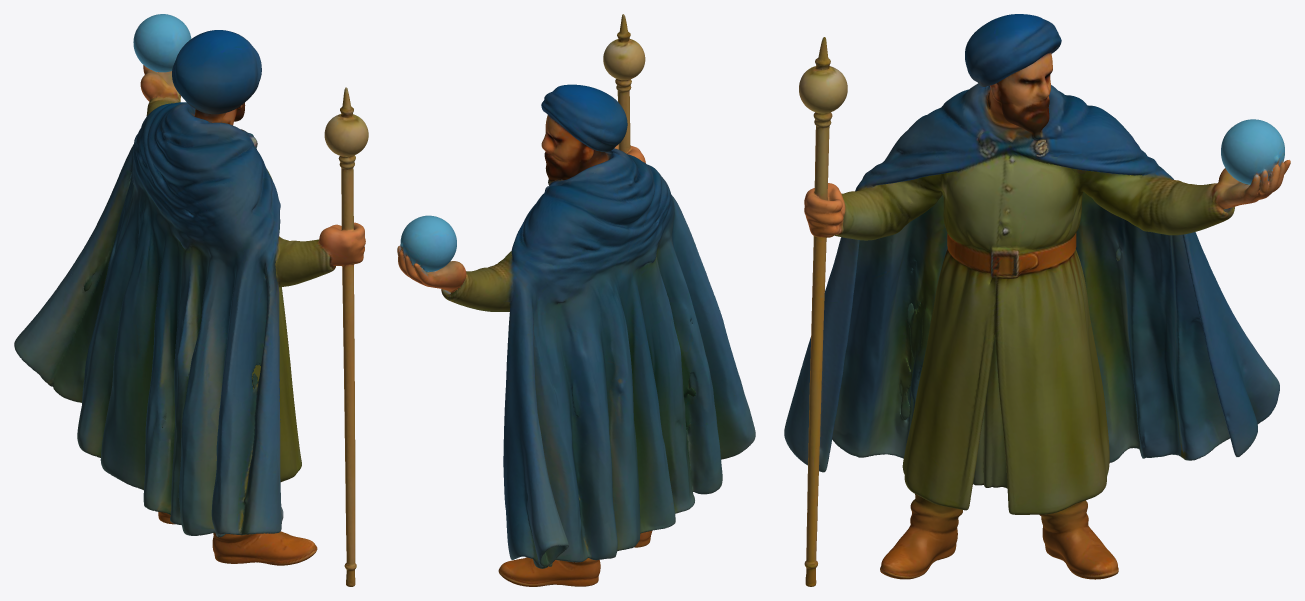
3 views of the same model, side by side, from view 1: azimuth 30°, elevation 25°; view 2: azimuth 150°, elevation 25°; view 3: azimuth 270°, elevation 25° (orthographic). The views are drawn at different scales.
Visible parts, largest first — view 1: tripo_node_4fb556c6-42da-4afb-b392-3214550b80b0; view 2: tripo_node_4fb556c6-42da-4afb-b392-3214550b80b0; view 3: tripo_node_4fb556c6-42da-4afb-b392-3214550b80b0.
Boxes of the visible parts, x1=… form: tripo_node_4fb556c6-42da-4afb-b392-3214550b80b0: x1=14, y1=14, x2=368, y2=586; tripo_node_4fb556c6-42da-4afb-b392-3214550b80b0: x1=397, y1=14, x2=755, y2=586; tripo_node_4fb556c6-42da-4afb-b392-3214550b80b0: x1=784, y1=14, x2=1290, y2=586.
Size of the model in its own units: 0.3662 by 1 by 0.8357.
1 material, 1 textured.
